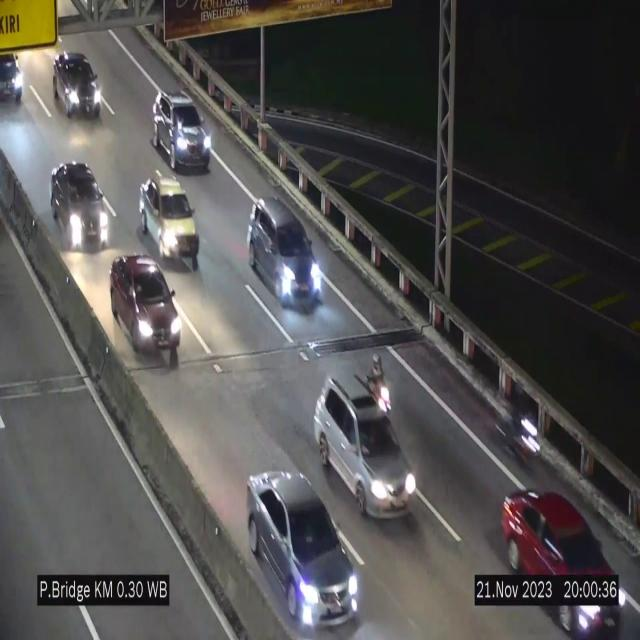Car: (494, 473, 624, 639), (247, 470, 359, 633), (314, 362, 420, 520), (248, 197, 322, 308), (111, 254, 183, 361), (139, 176, 199, 270), (47, 164, 111, 252), (152, 91, 210, 171), (52, 48, 104, 123), (0, 34, 32, 115)
Motorcycle: (501, 377, 539, 474), (370, 345, 390, 413)
